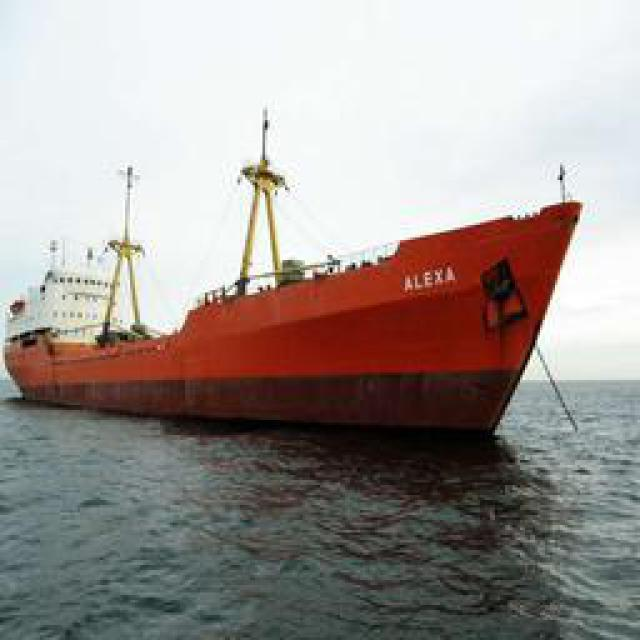Ship: (12, 152, 582, 432)
